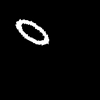chain: (16, 20, 48, 44)
